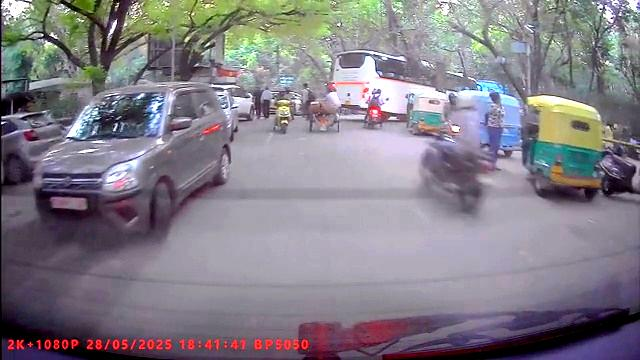motorcycle_with_helmet: (416, 86, 494, 217), (269, 85, 296, 135)
